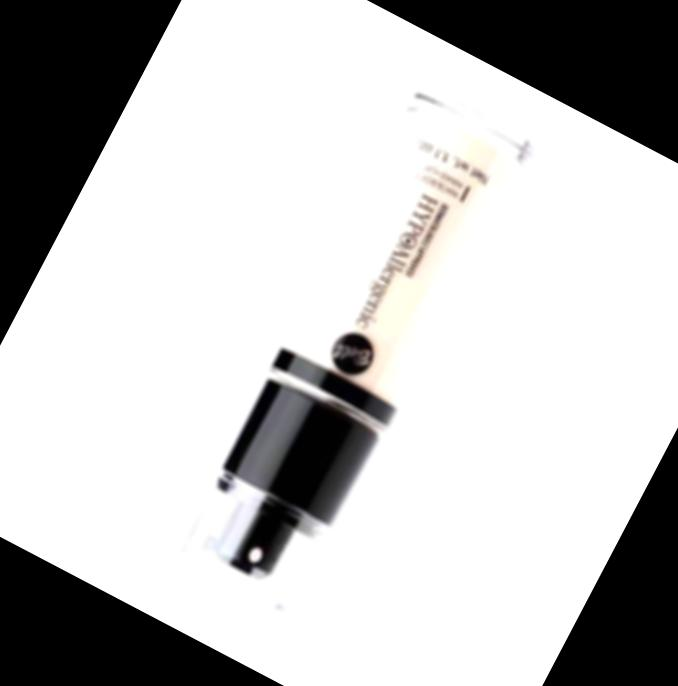cosmetic: (170, 79, 539, 618)
